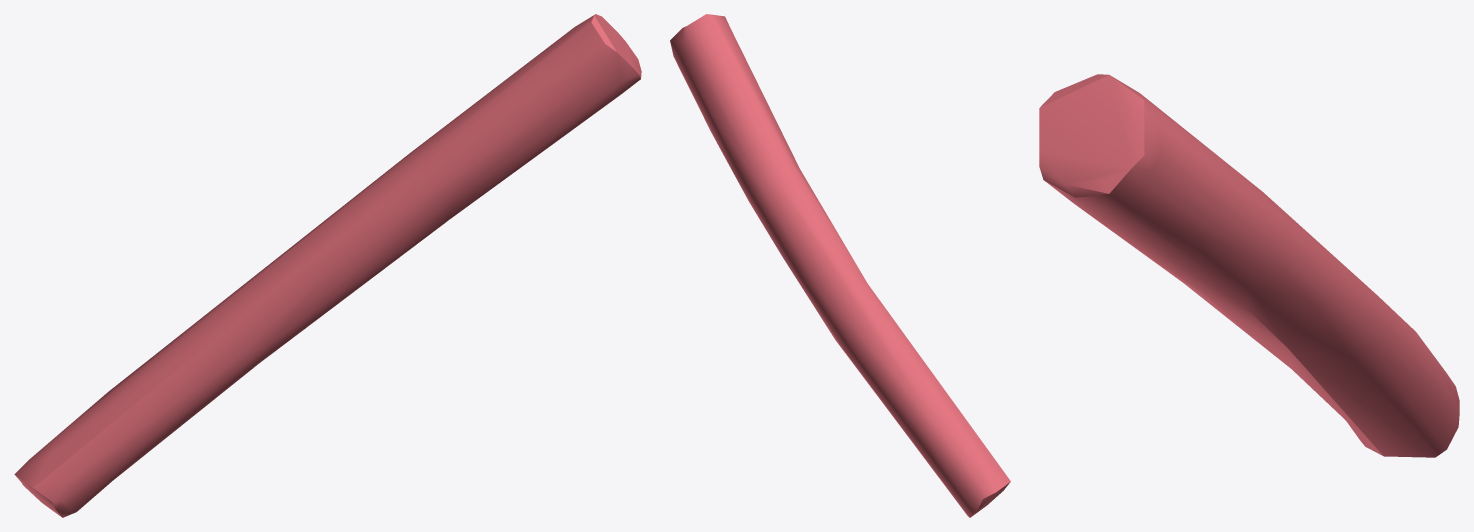
The model's file is fma75857_fj3437.glb.
The picture shows the model from 3 angles, left to right: view 1: azimuth 30°, elevation 25°; view 2: azimuth 150°, elevation 25°; view 3: azimuth 270°, elevation 25°; orthographic projection. The views are drawn at different scales.
Parts seen in each view (by area): view 1: FMA75857_FJ3437; view 2: FMA75857_FJ3437; view 3: FMA75857_FJ3437.
Part boxes in pixels (bbox=[...]): FMA75857_FJ3437: bbox=[14, 14, 641, 517]; FMA75857_FJ3437: bbox=[670, 14, 1010, 517]; FMA75857_FJ3437: bbox=[1039, 74, 1459, 457].
Size of the model in its own units: 0.0242 by 0.0204 by 0.0108.
